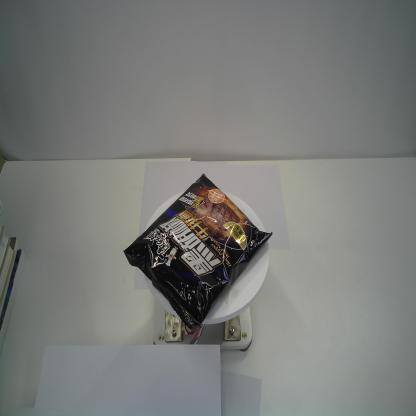Instant Noodles: (124, 172, 273, 332)
